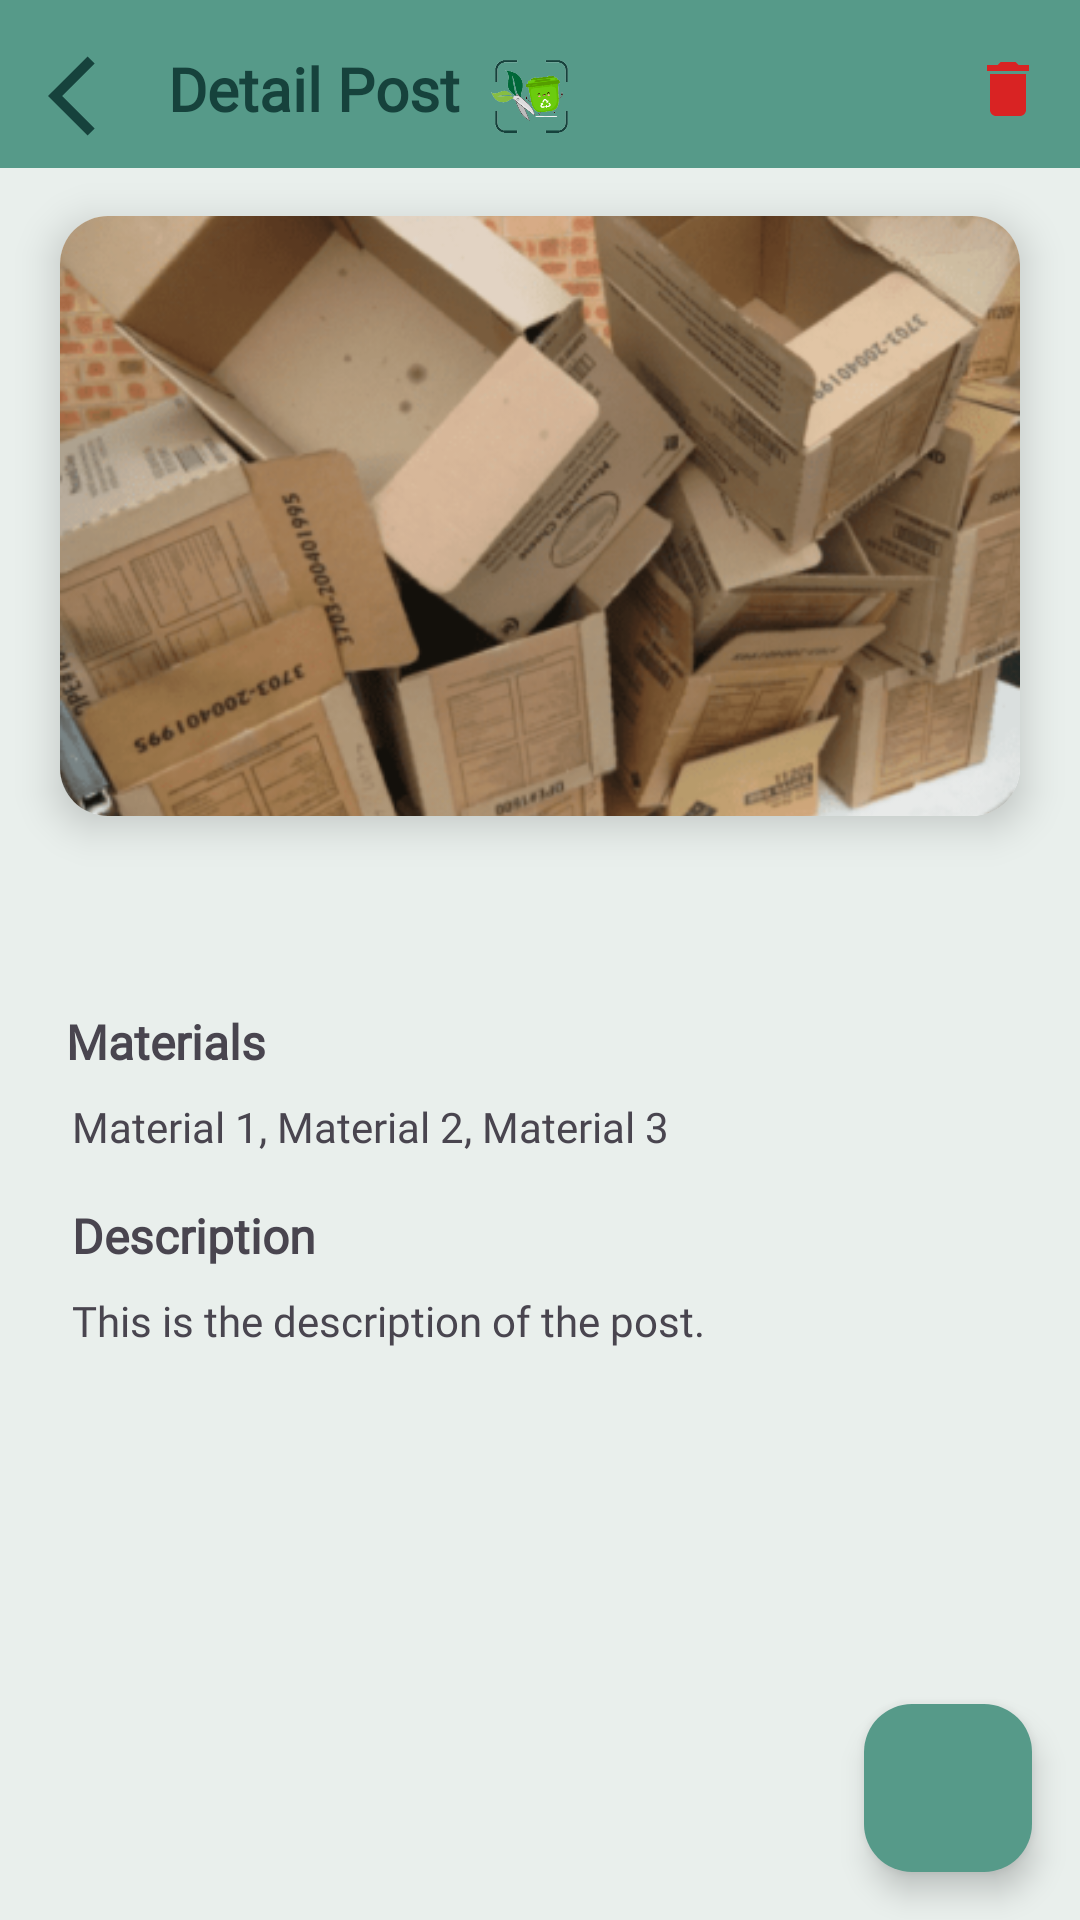

Icon click points for this 1080px x 1920px phone screenshot, format point (x, y):
Back: point (71, 96)
